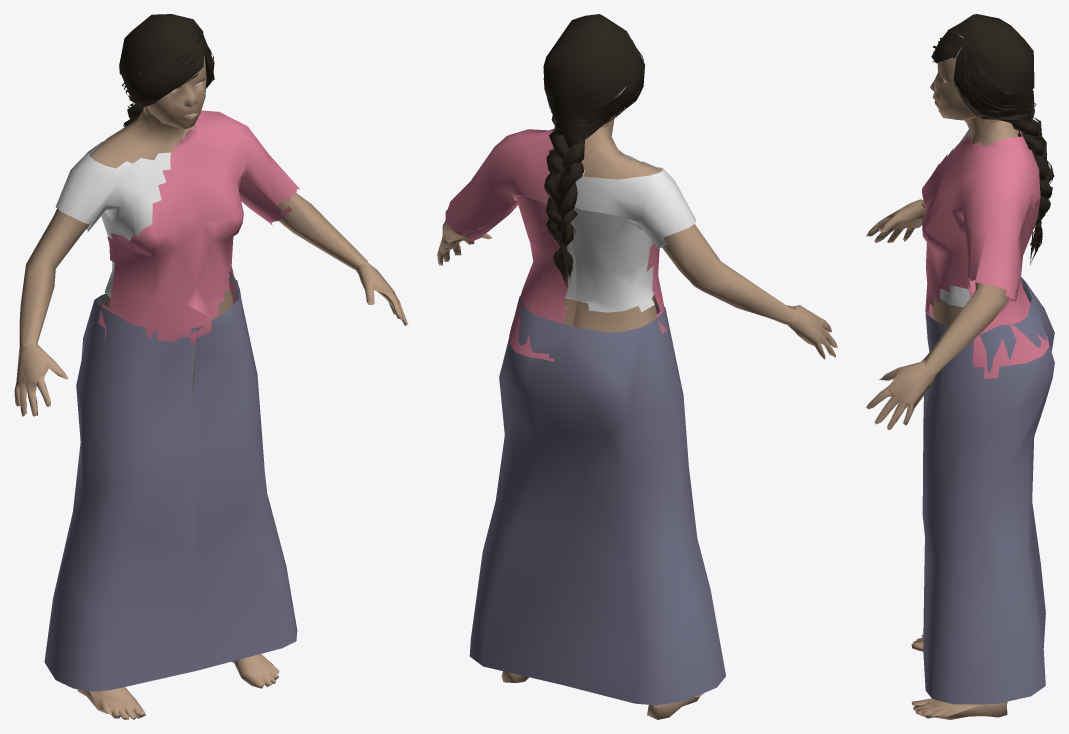
File: woman_00.glb
3 views of the same model, side by side, from view 1: azimuth 30°, elevation 25°; view 2: azimuth 150°, elevation 25°; view 3: azimuth 270°, elevation 25° (orthographic).
Visible parts, largest first — view 1: crowd; view 2: crowd; view 3: crowd.
Boxes of the visible parts, x1,y1,x2,y2 form: crowd: (14,14,408,719); crowd: (437,14,837,719); crowd: (866,14,1054,719).
Size of the model in its own units: 0.8883 by 1.47 by 0.3785.
